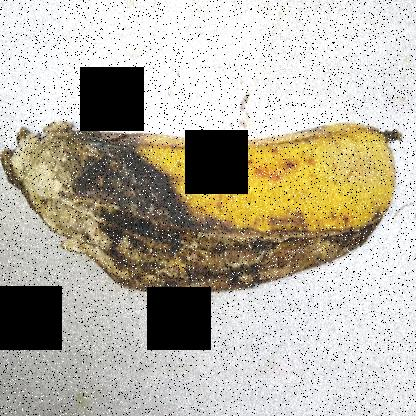rotten: (1, 113, 192, 326), (130, 175, 366, 317)
